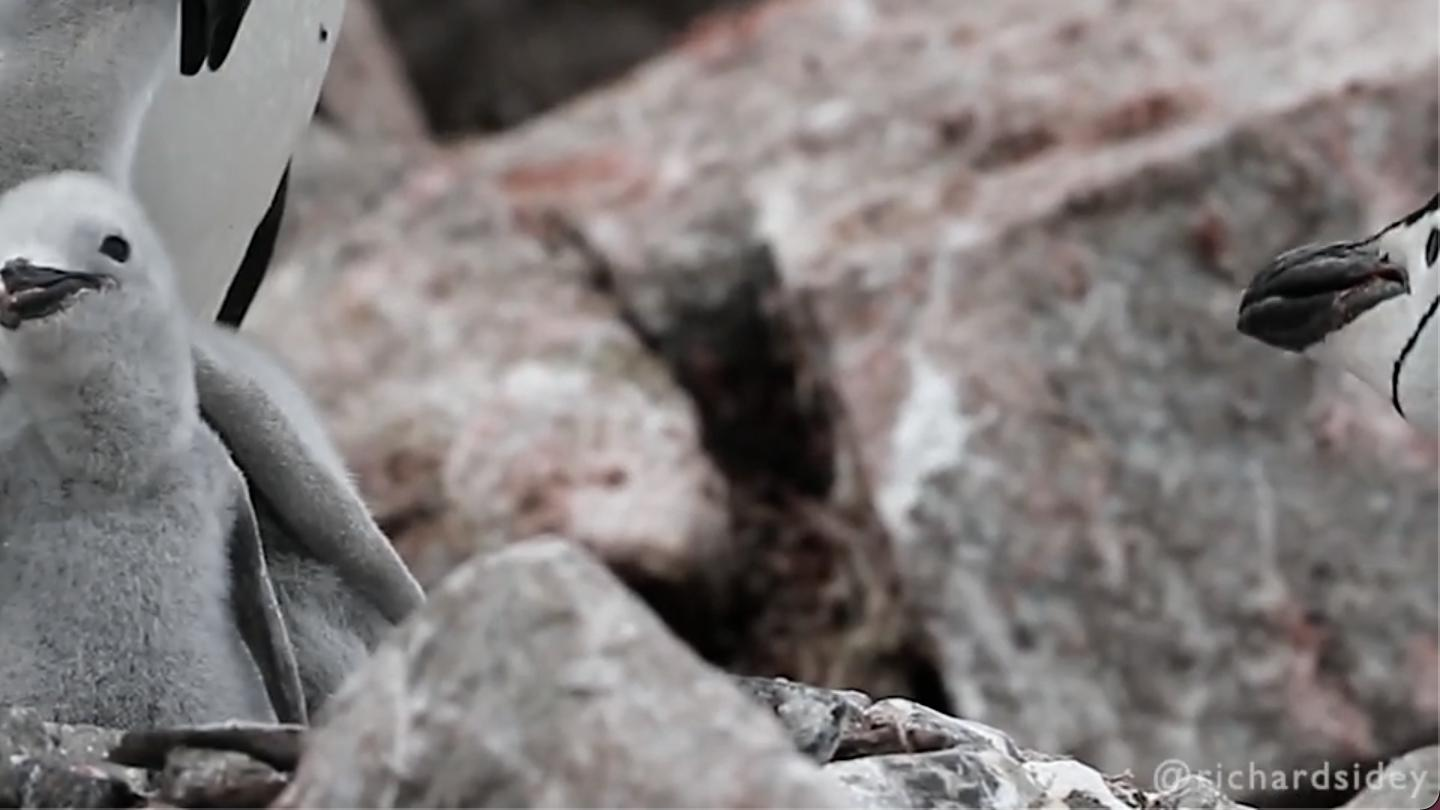Chinstrap Penguin: (1213, 189, 1440, 496), (0, 0, 542, 77)
